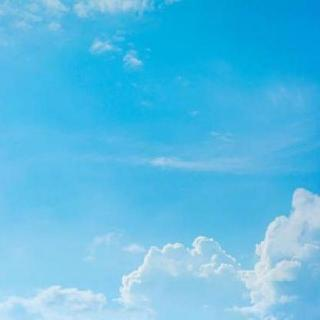Cumulus: (0, 184, 320, 320)
